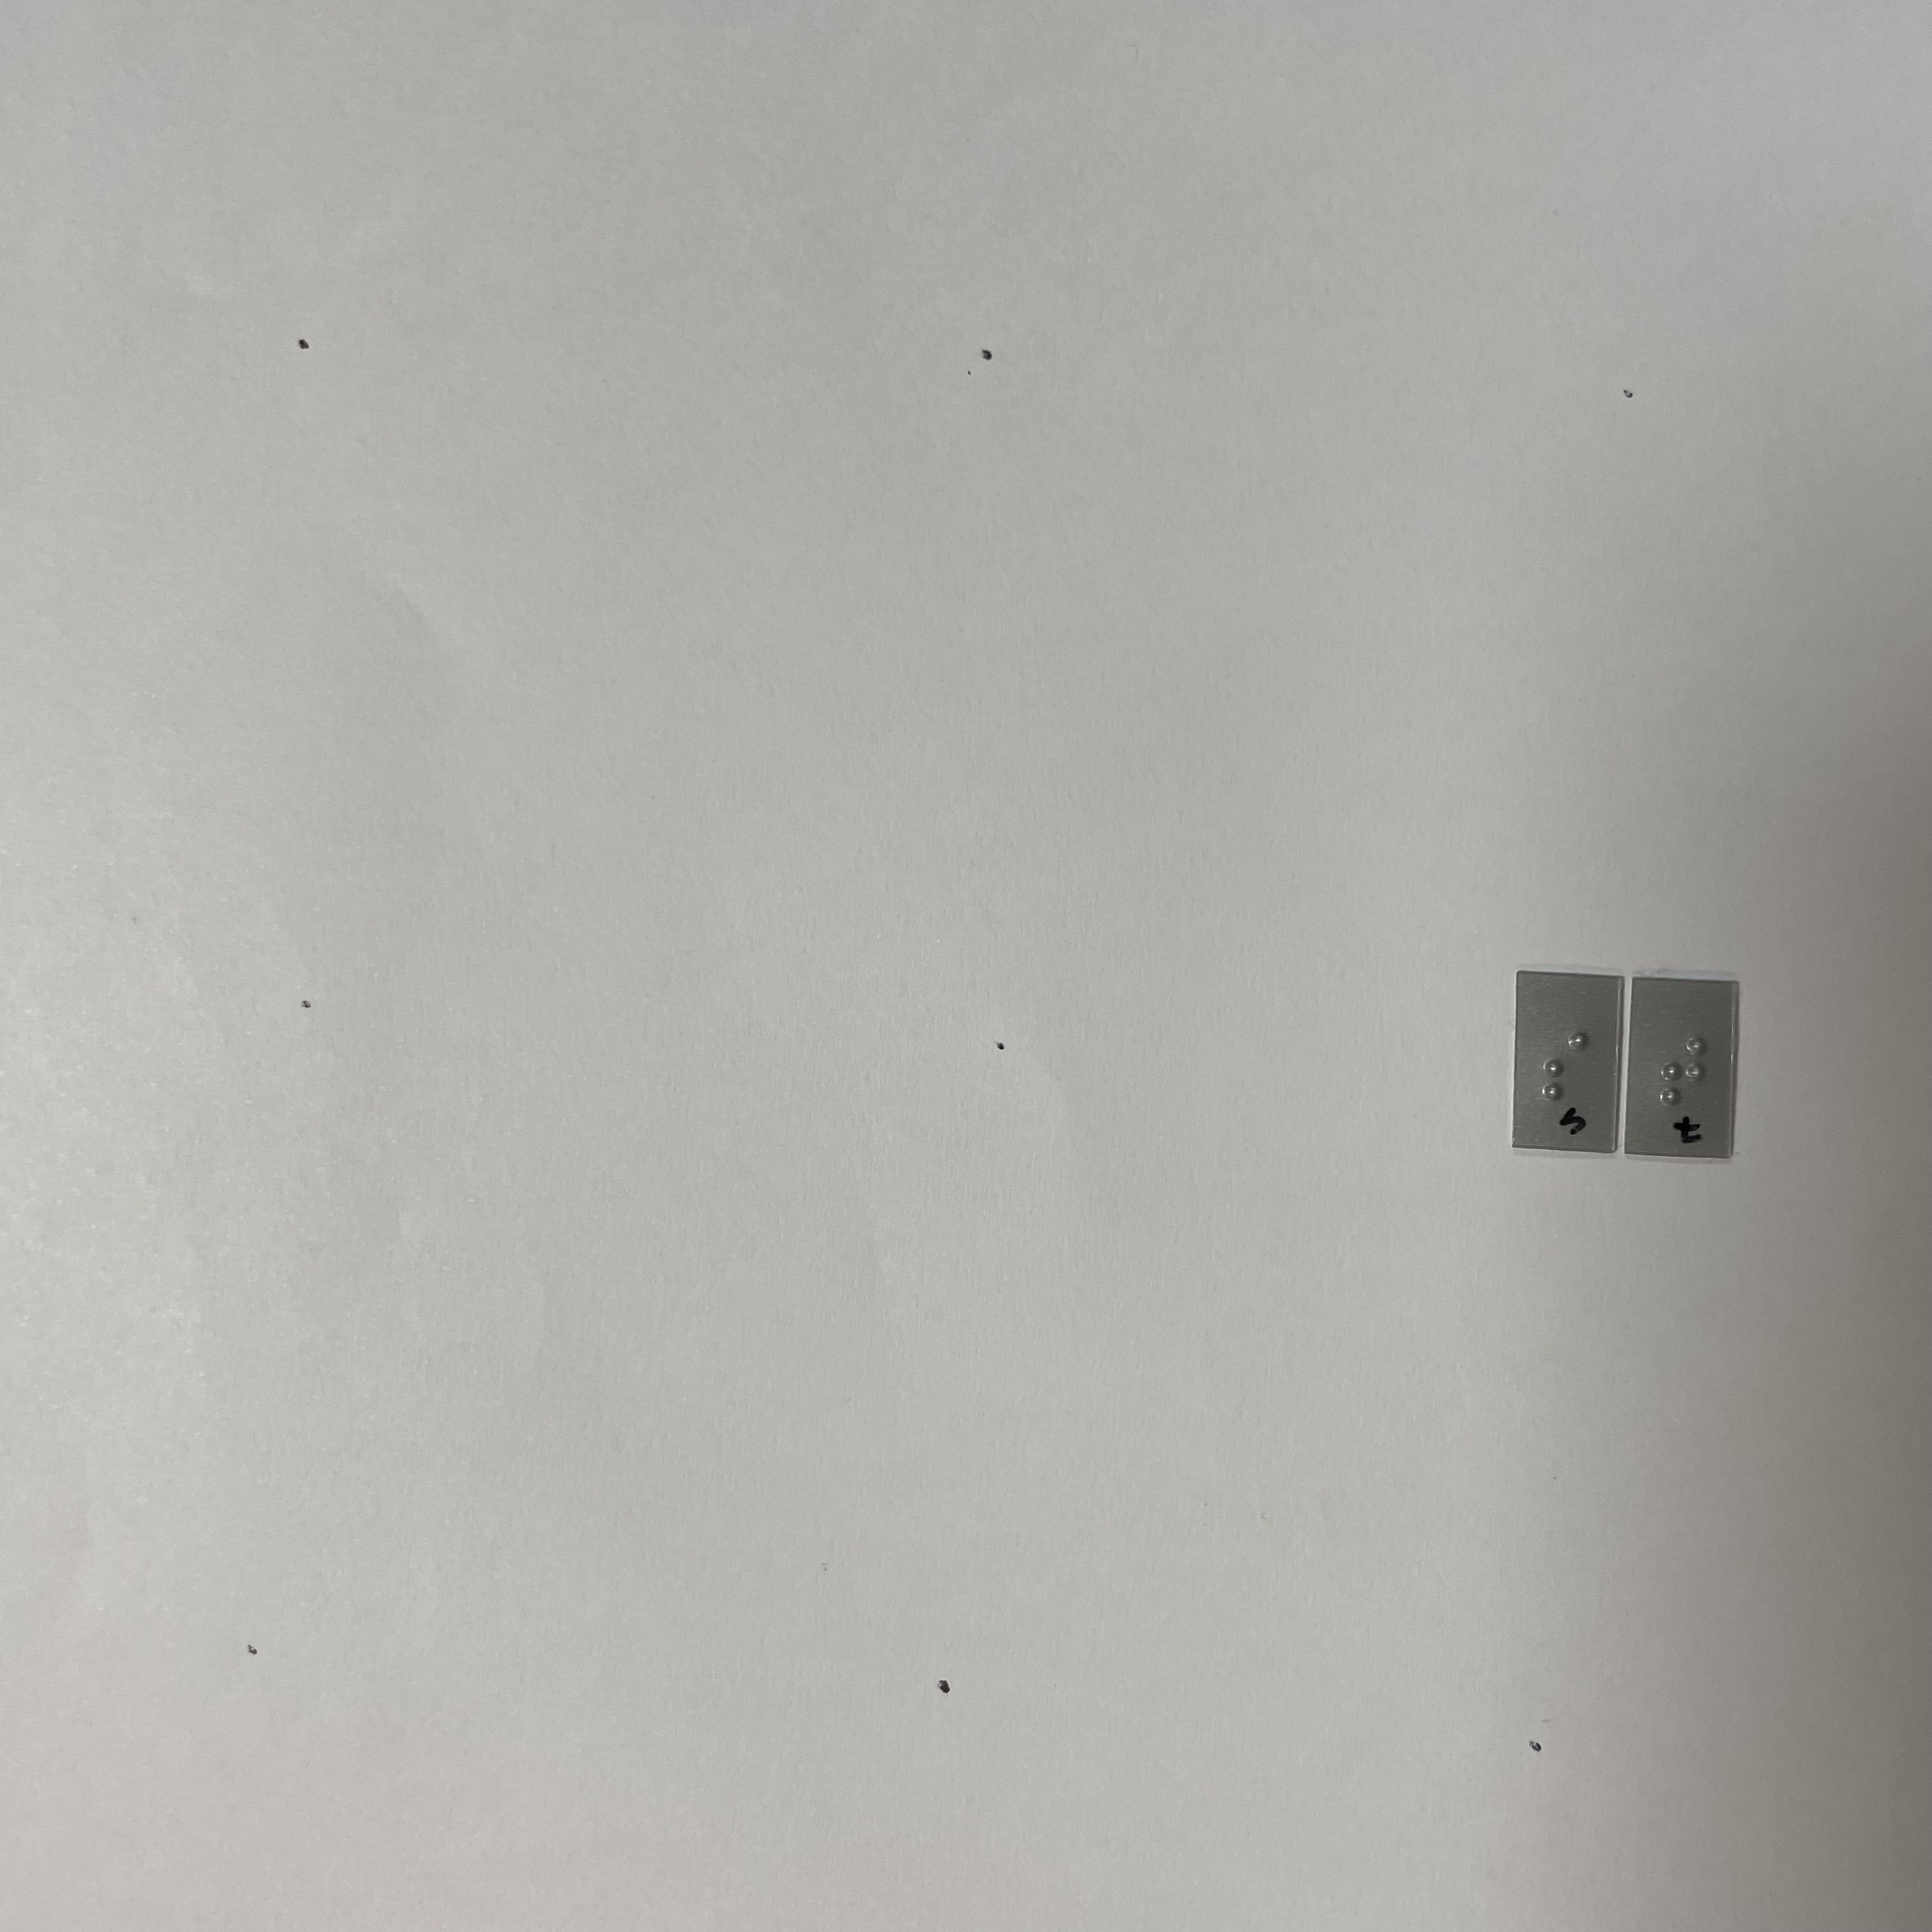s: (1538, 1025, 1597, 1115)
t: (1652, 1025, 1713, 1119)
